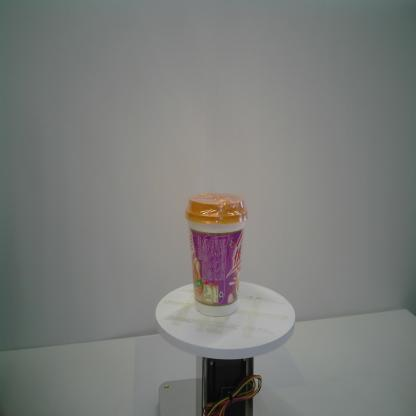Instant Drink: (184, 190, 248, 317)
